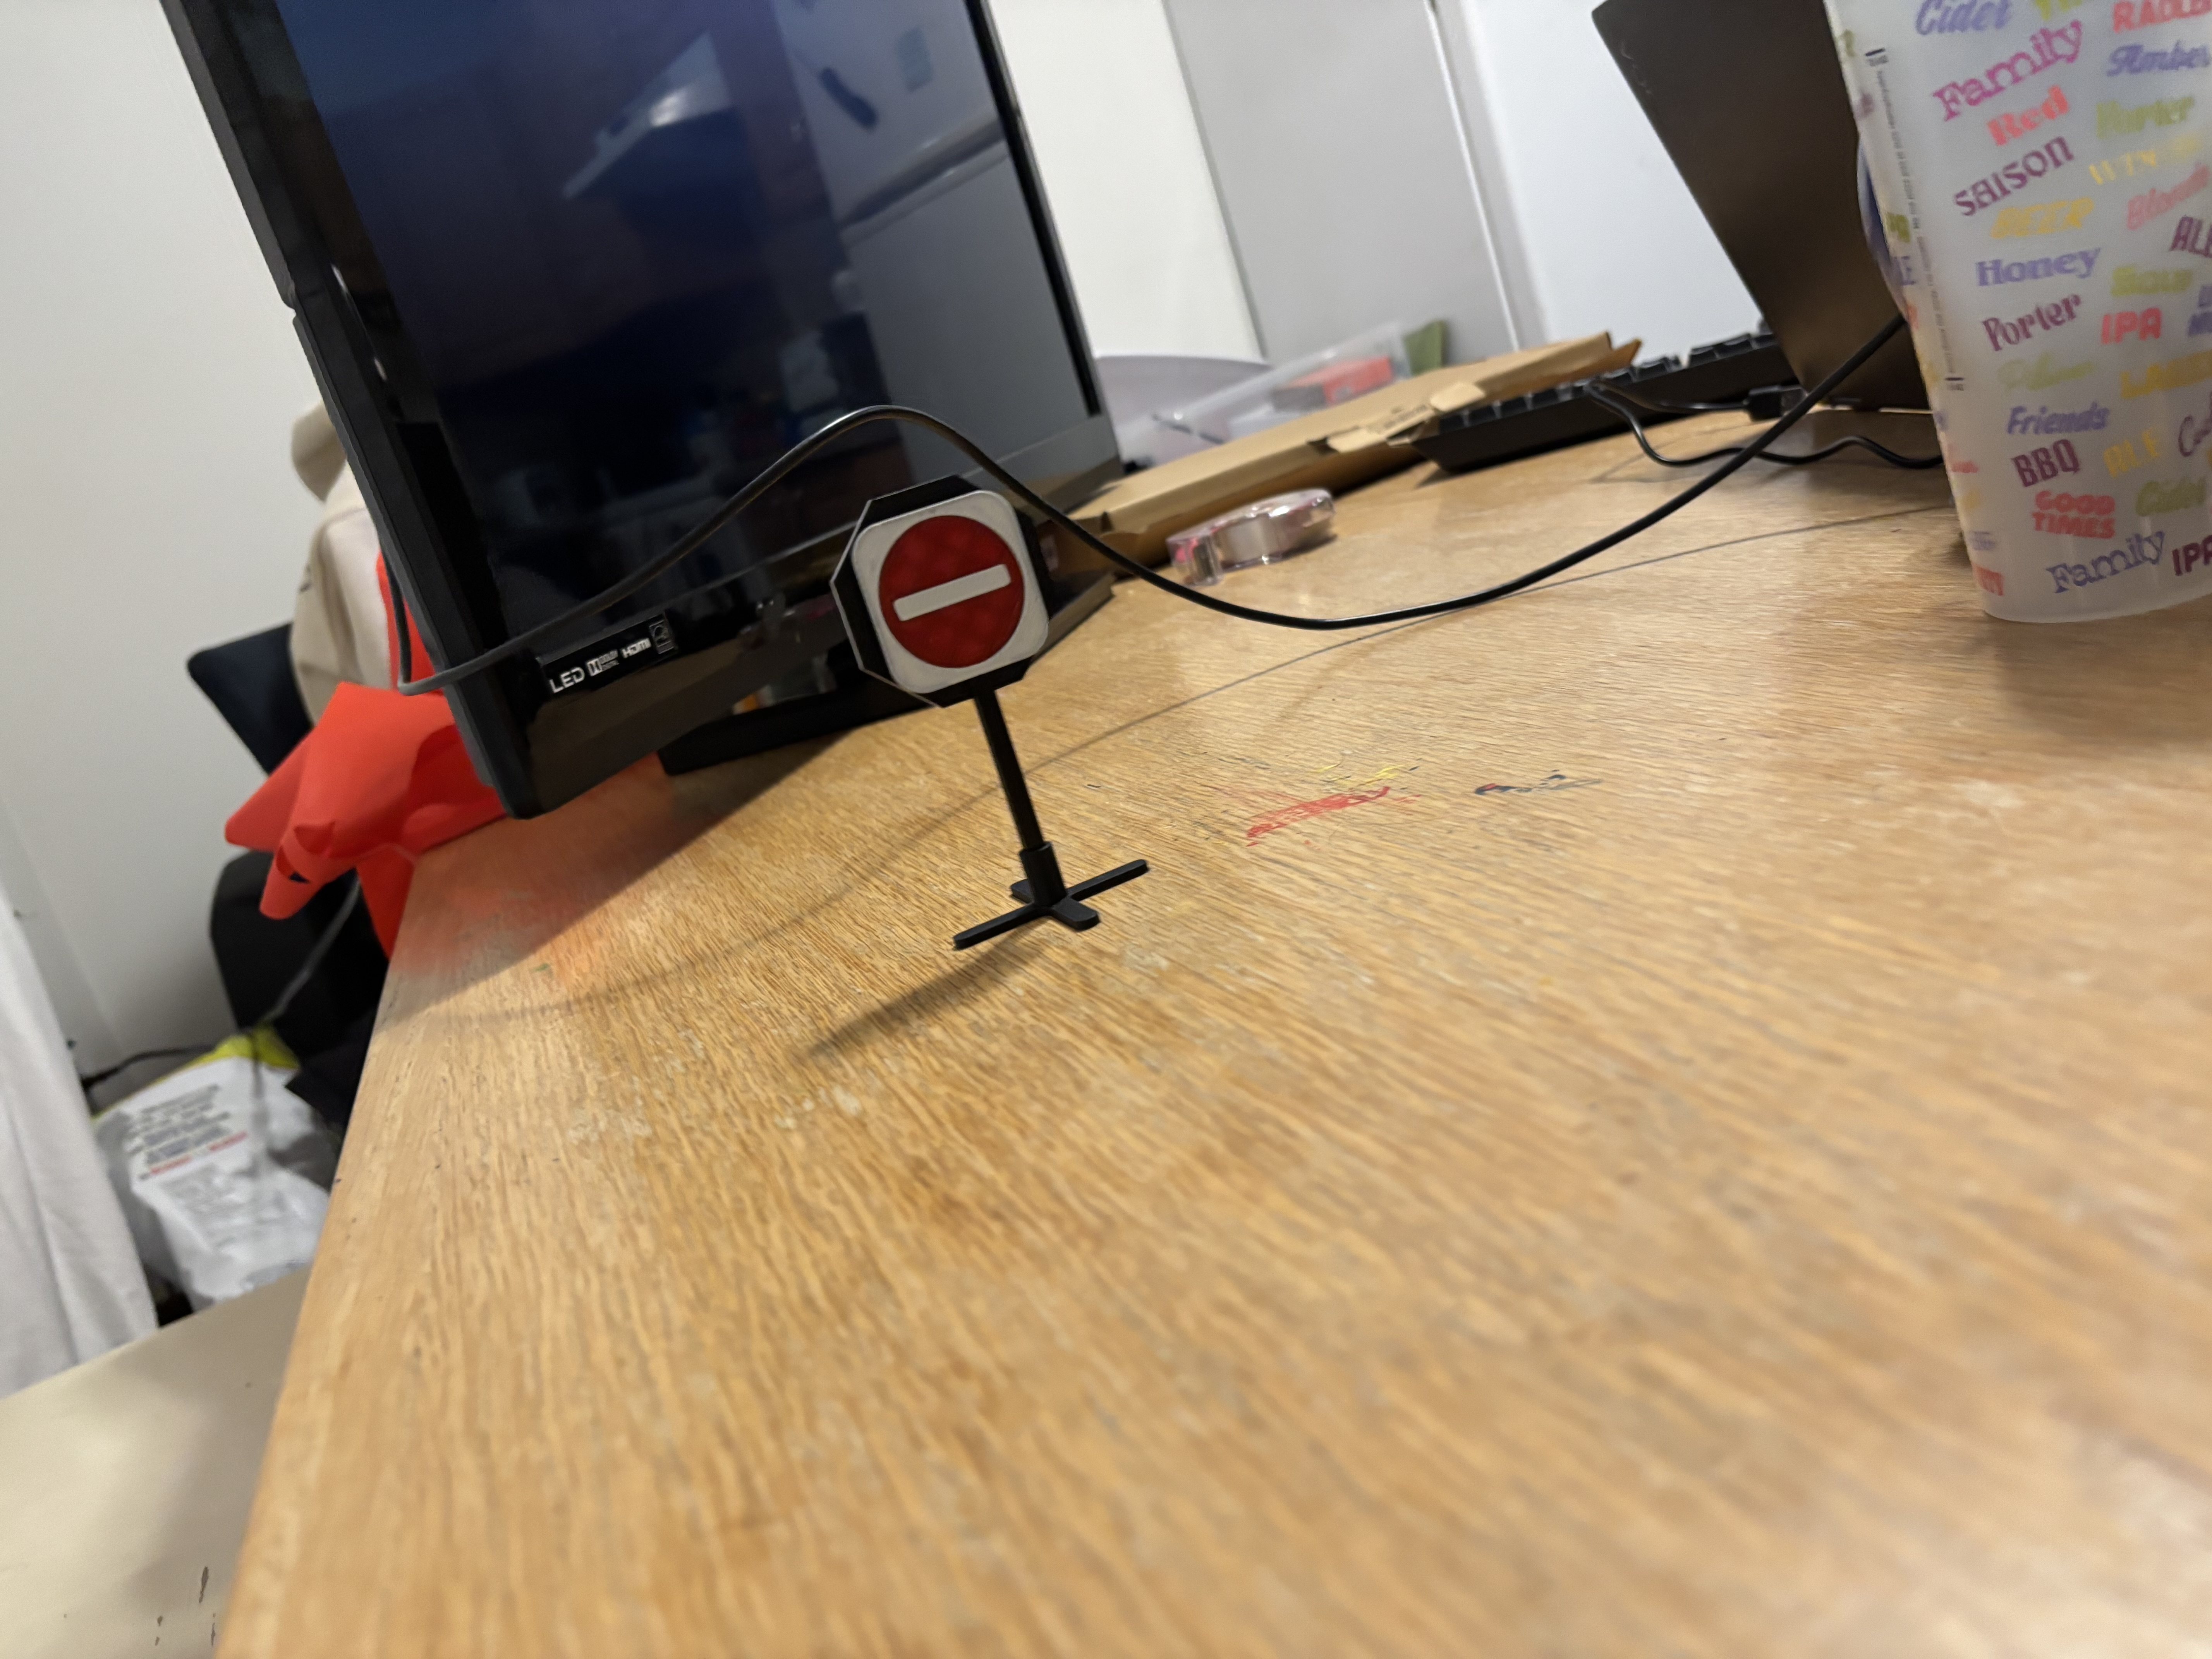sign_noentry: (834, 484, 1059, 706)
